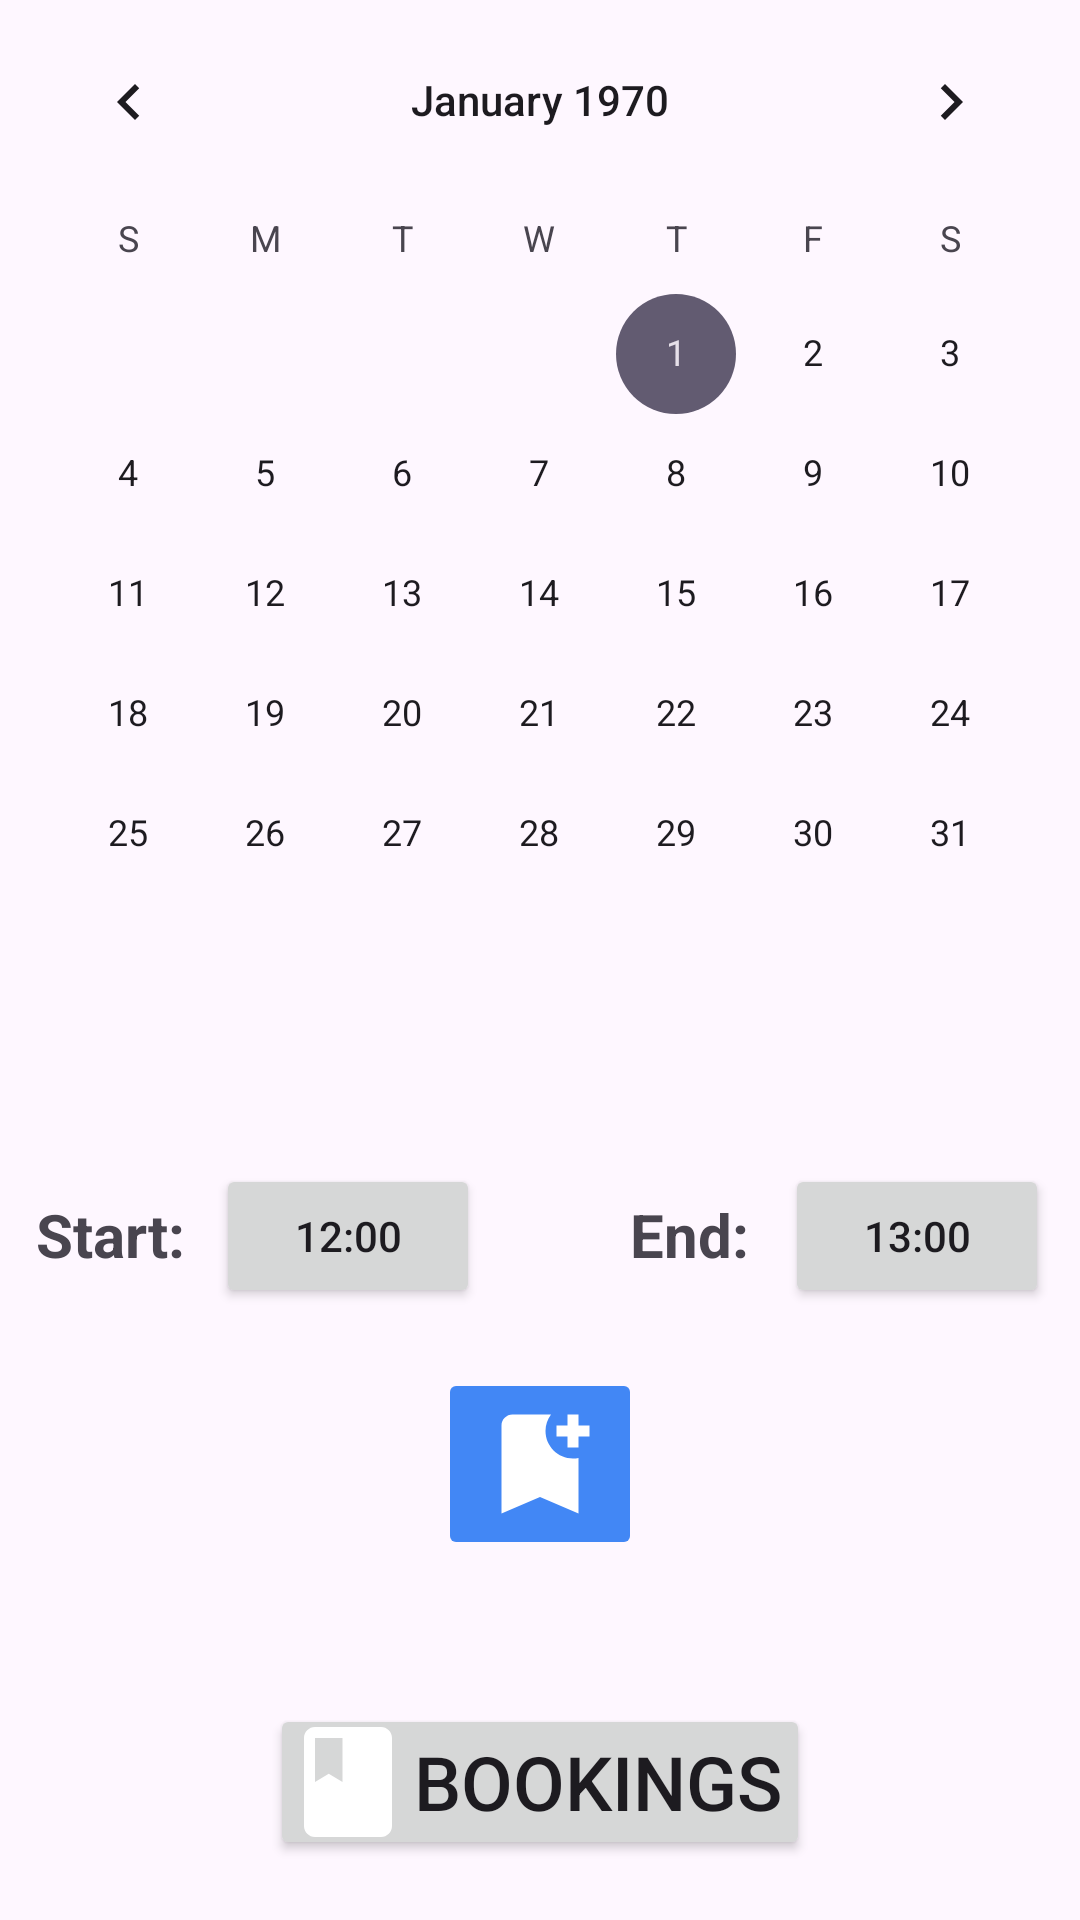

Named icons in this screenshot (1080 × 1920) and their centers, (x,y):
add bookmark: (540,1464)
